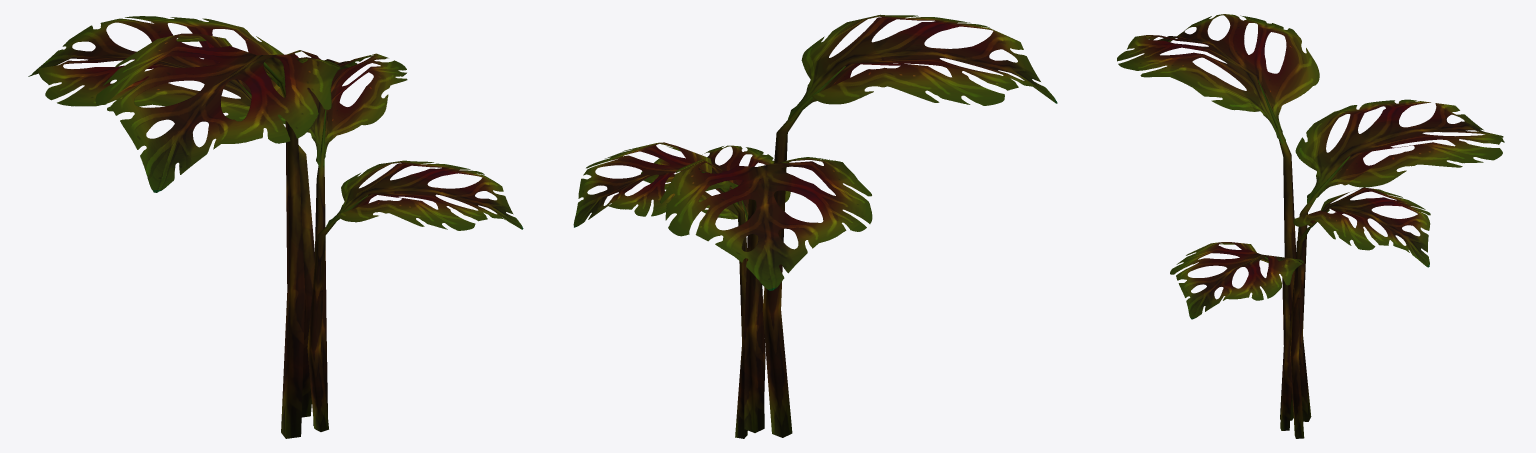
Rendered from Foliage01(SimpleMesh).fbx.
The picture shows the model from 3 angles, left to right: view 1: azimuth 30°, elevation 25°; view 2: azimuth 150°, elevation 25°; view 3: azimuth 270°, elevation 25°; orthographic projection. The views are drawn at different scales.
Visible parts, largest first — view 1: PlantFoliage01; view 2: PlantFoliage01; view 3: PlantFoliage01.
Boxes of the visible parts, x1,y1,x2,y2 form: PlantFoliage01: [28, 16, 523, 438]; PlantFoliage01: [573, 14, 1057, 438]; PlantFoliage01: [1117, 14, 1504, 438].
Size of the model in its own units: 106 by 105 by 115.
